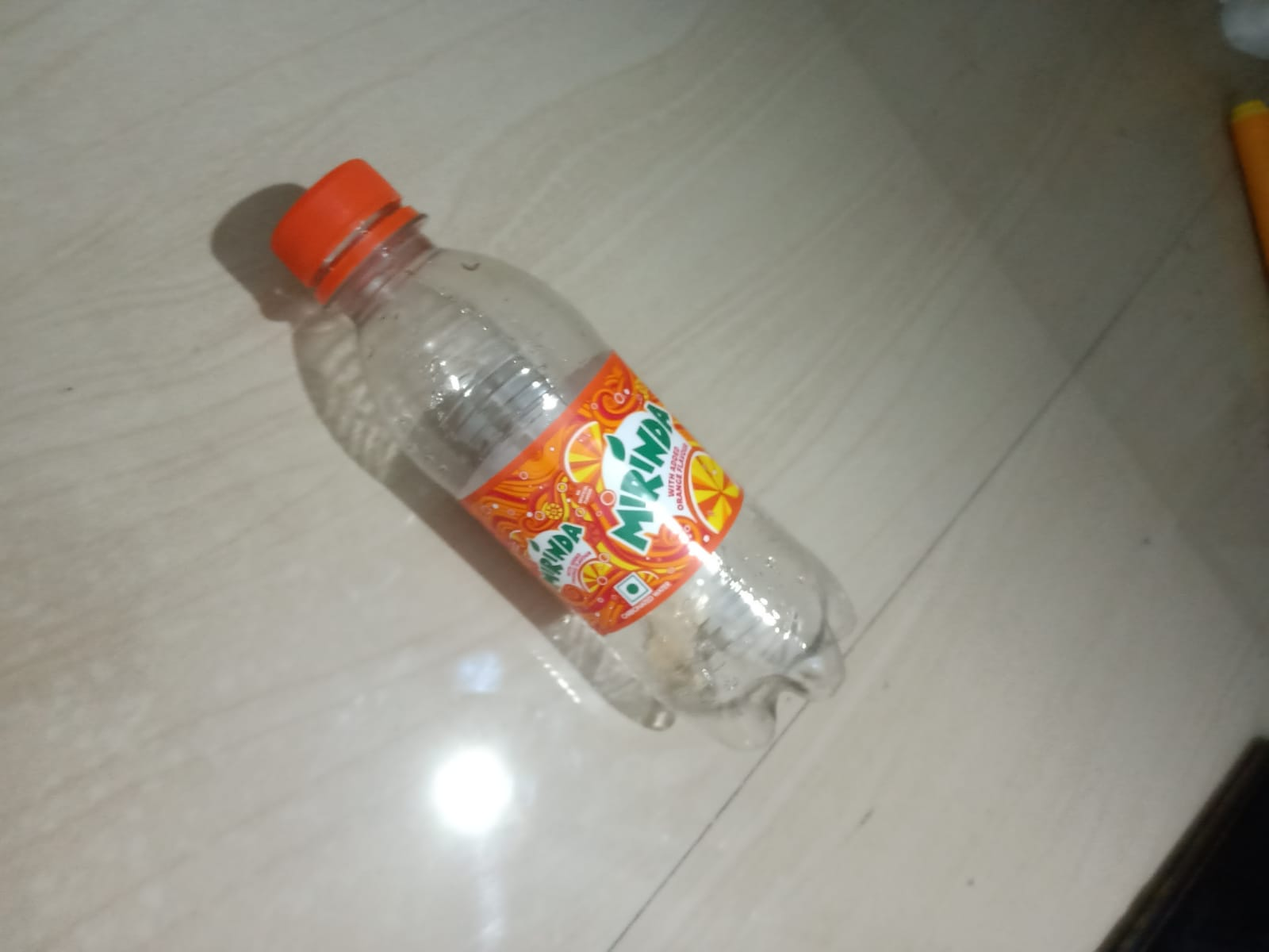plastic: (195, 121, 913, 827)
